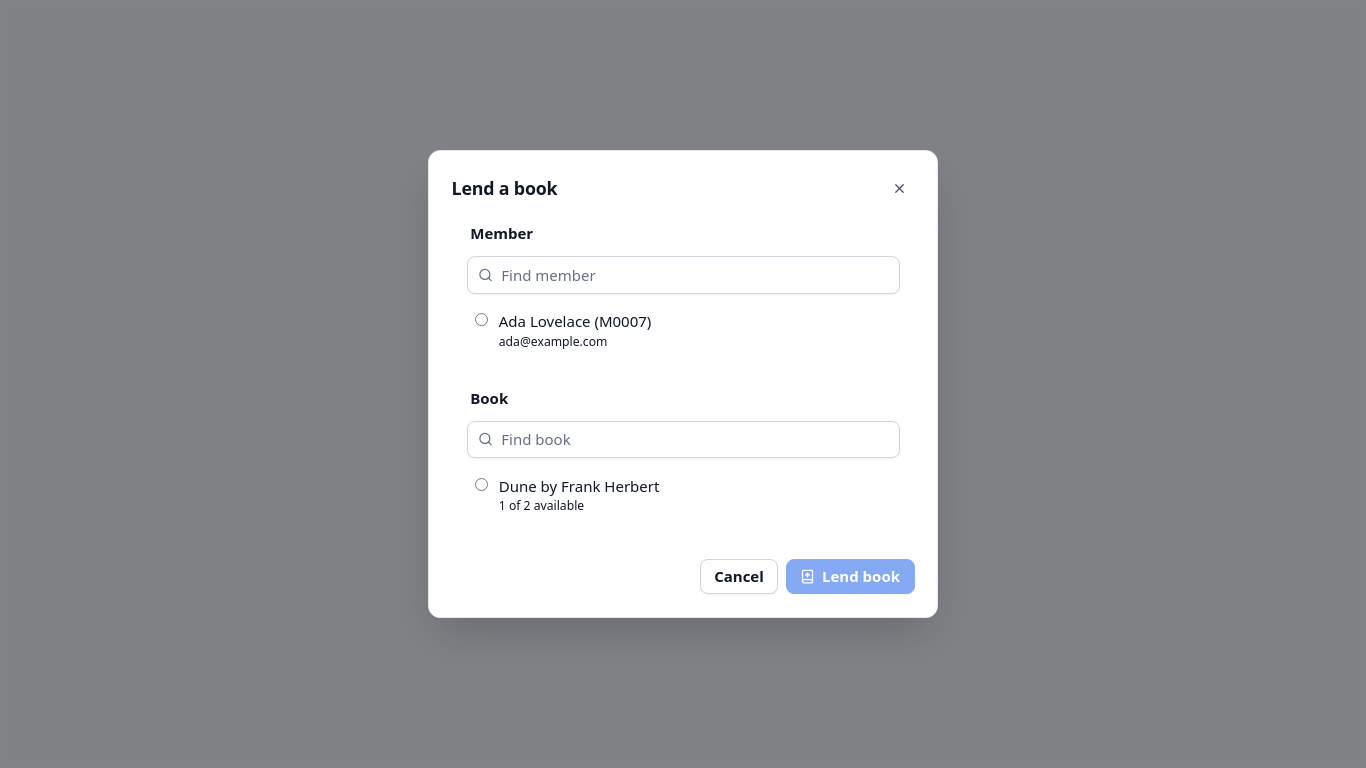
it: BorrowDialog › lends the chosen book to the chosen member and closes
Click the radio button labelled "Ada Lovelace (M0007) ada@example.com" at (482, 320), box [475,313,488,326]
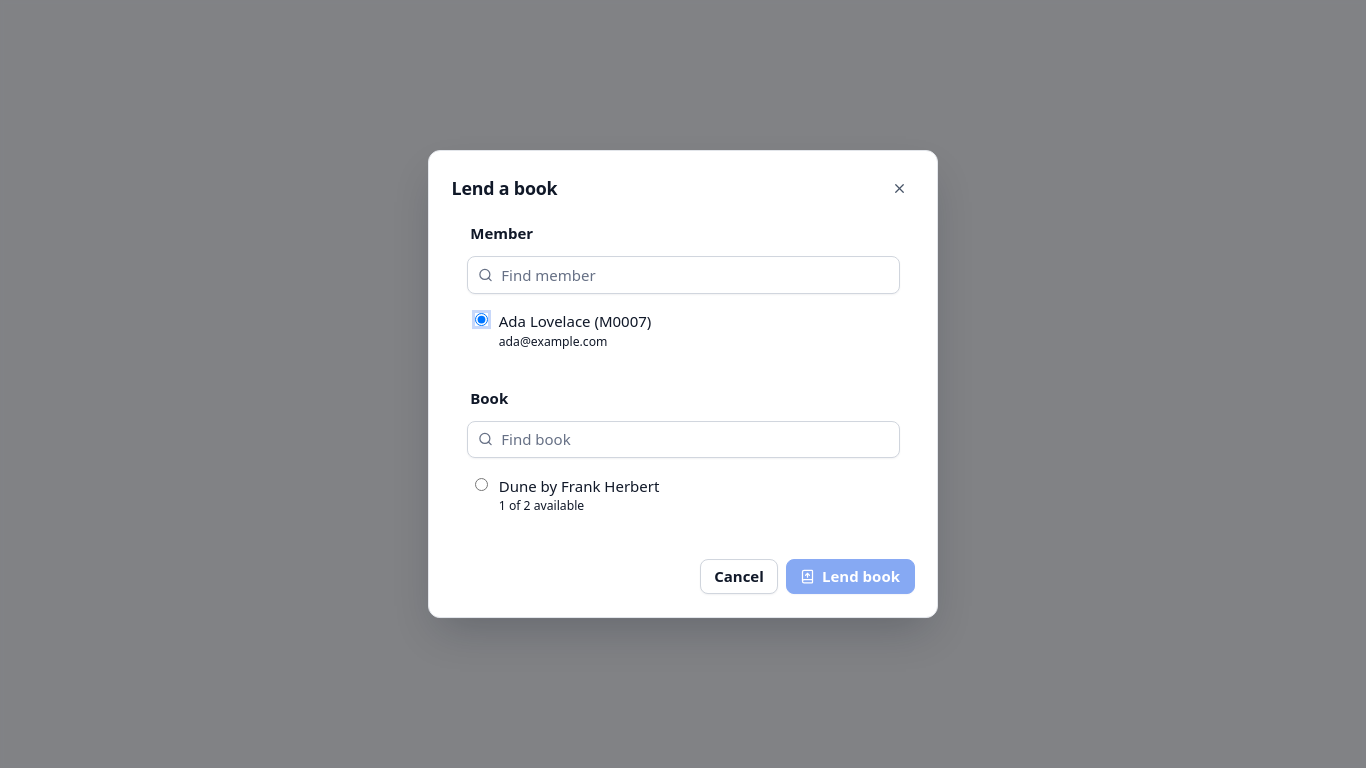
Click the radio button labelled "Dune by Frank Herbert 1 of 2 available" at (482, 484), box [475,478,488,491]
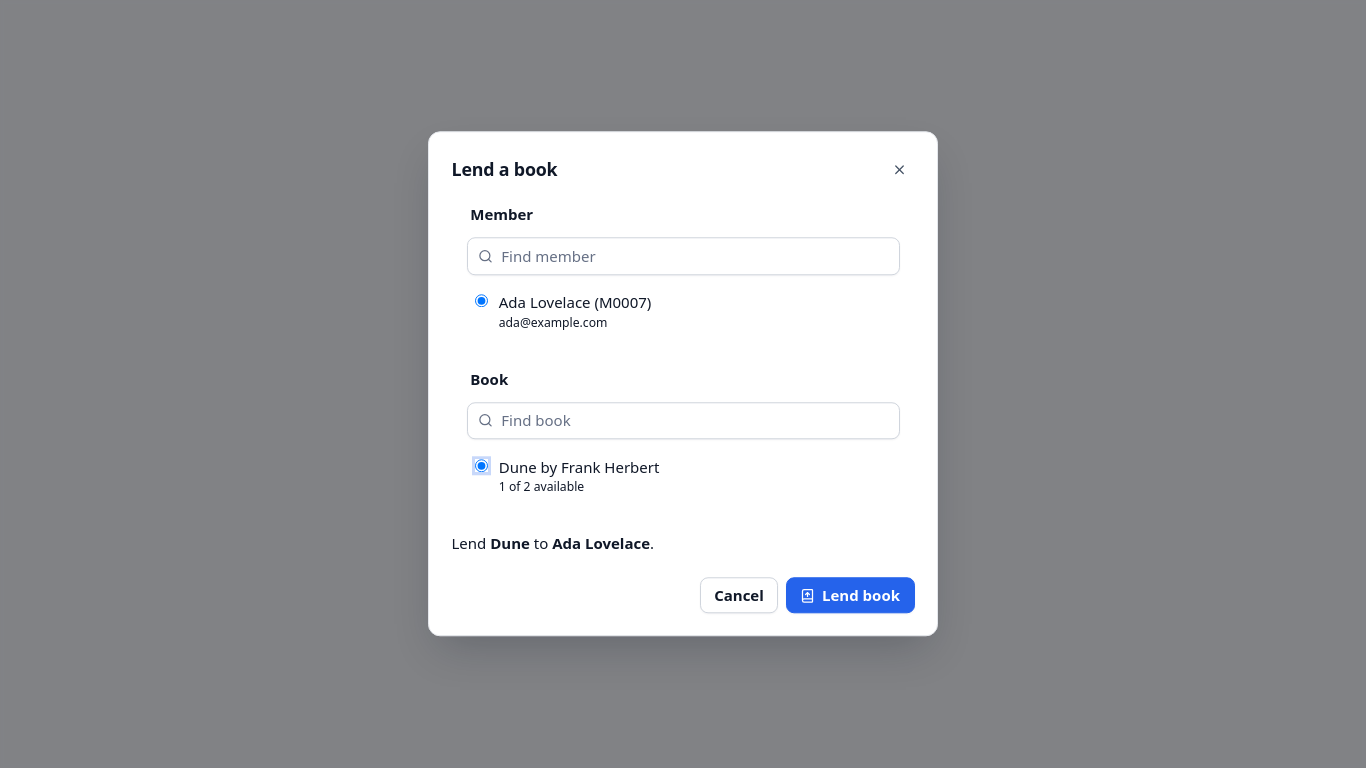
Click the button "Lend book" at (850, 595), box [786,578,914,613]
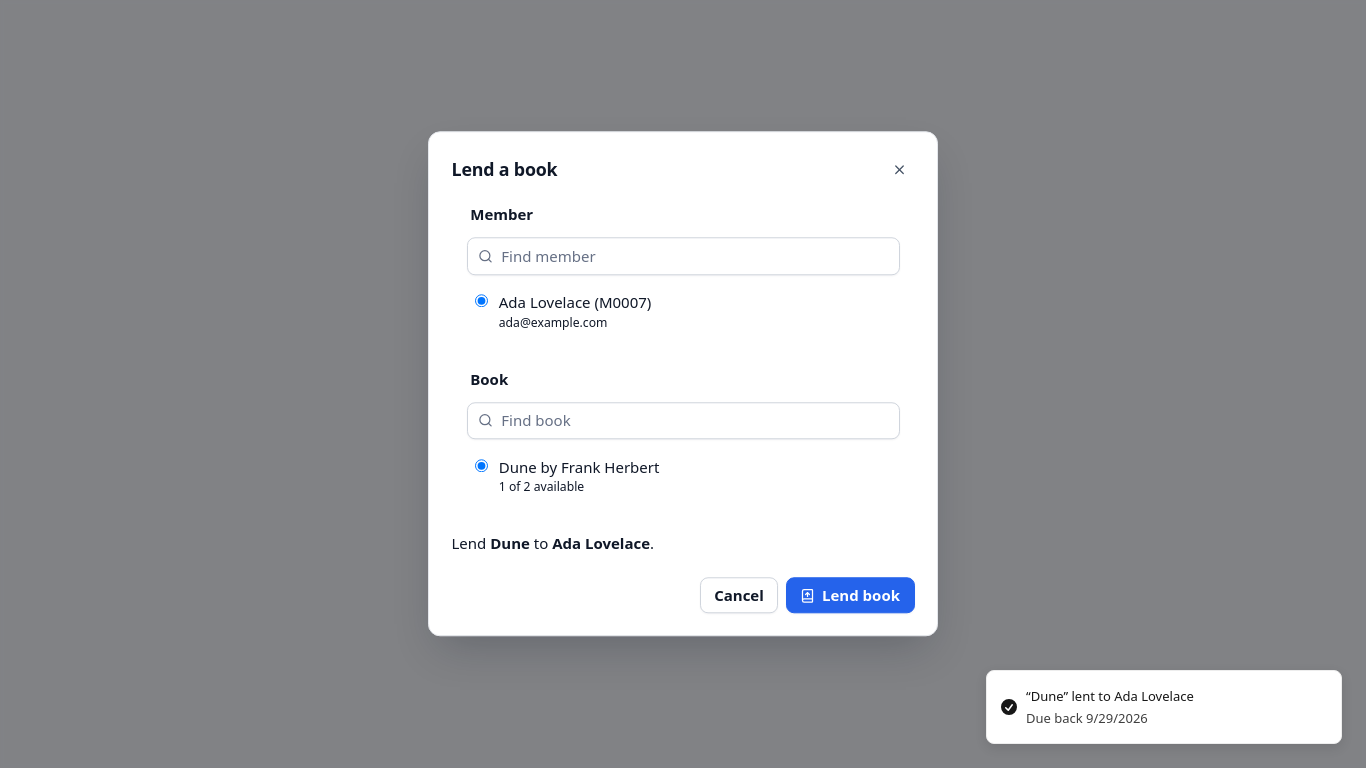
Check: the text "“Dune” lent to Ada Lovelace" is shown, box [1026,687,1194,707]
